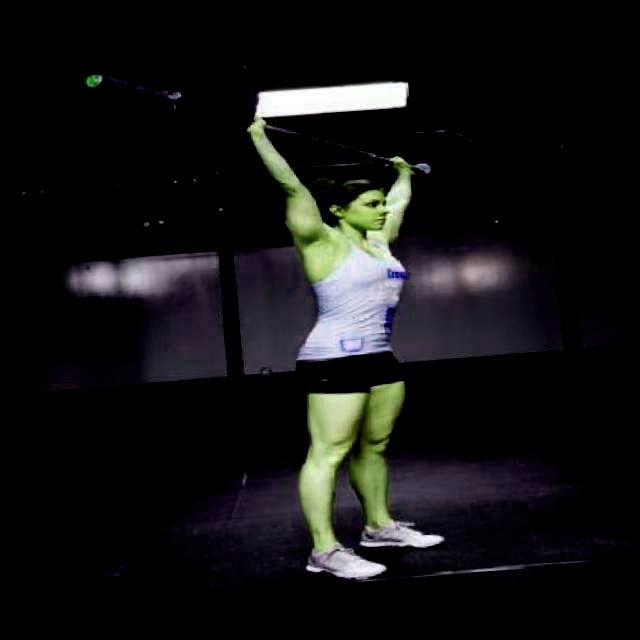barbell: (76, 35, 262, 177)
